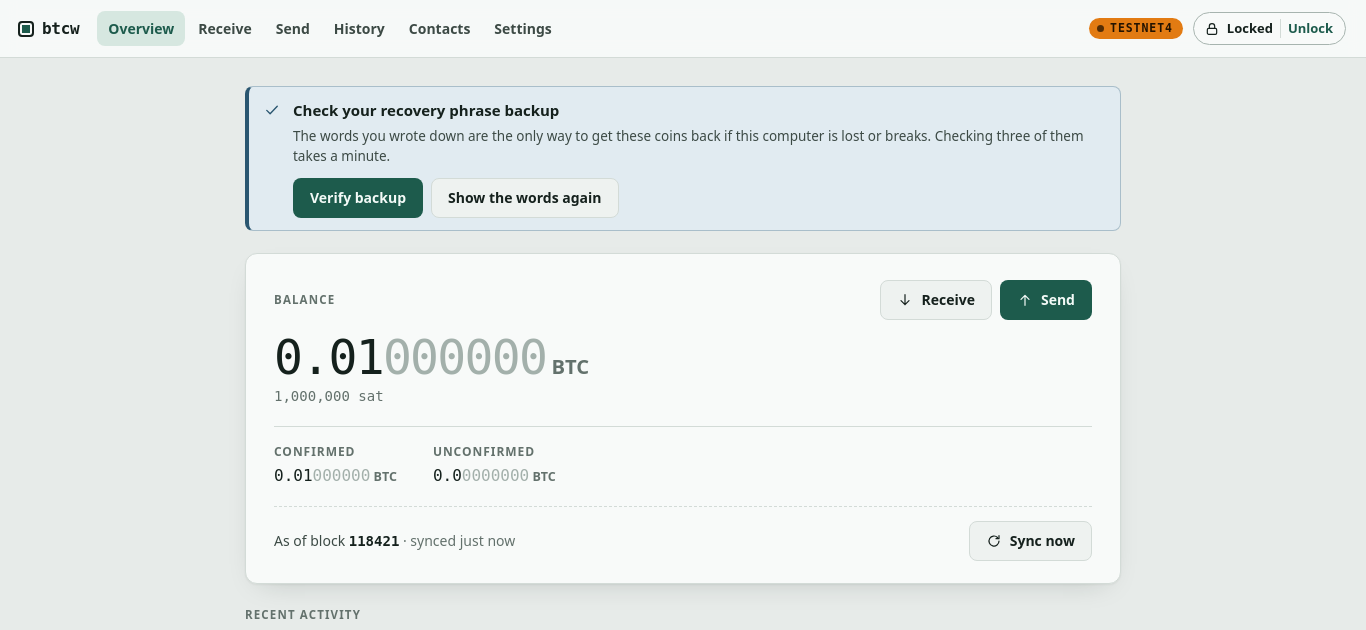
backup reminder › shows on the dashboard and the send screen while the backup is unverified
Expected: the heading "Balance" is shown, [274,291,335,309]
Expected: the text "As of block 118421 · synced just now" is shown, [274,530,515,552]
Click the button "Send" in the row of "btcw" at x=293, y=28, box [265,11,321,46]
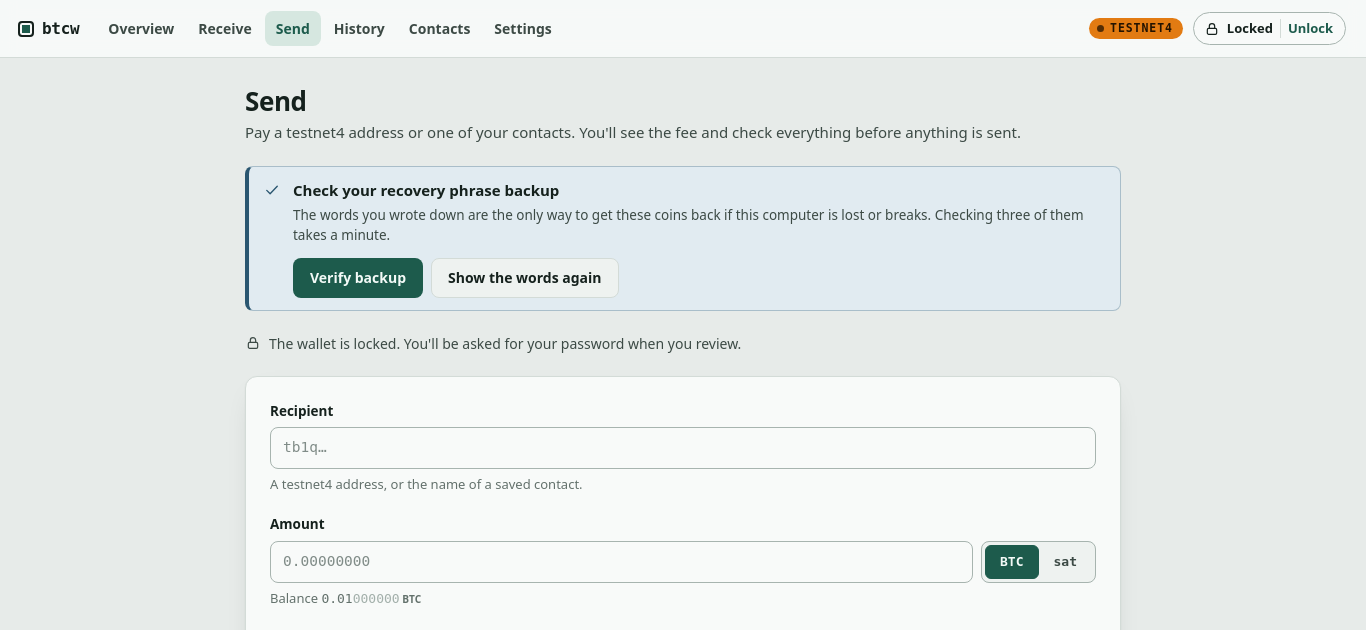
Expected: the heading "Send" is shown, [245,83,307,119]
Expected: the element "Check your recovery phrase backup" is shown, [245,166,1121,311]
Click the button "History" at x=359, y=28, box [323,11,396,46]
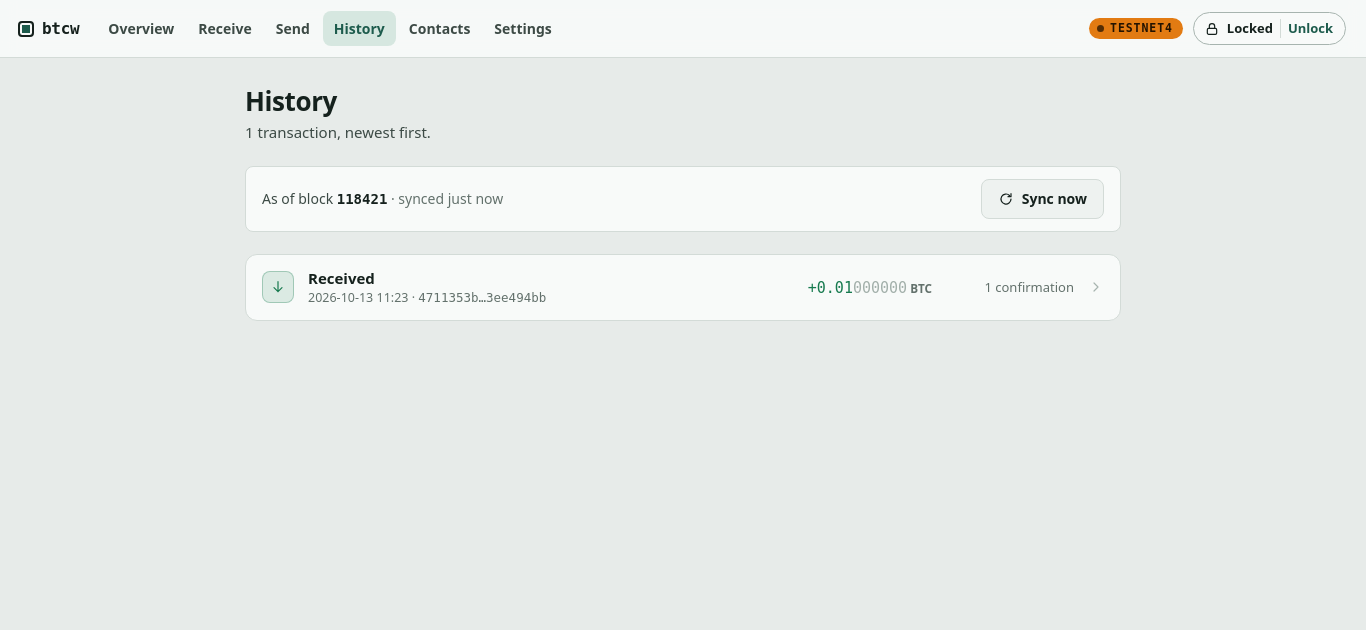
Expected: the heading "History" is shown, [245,83,337,119]
Expected: the heading "Check your recovery phrase backup" is gone
